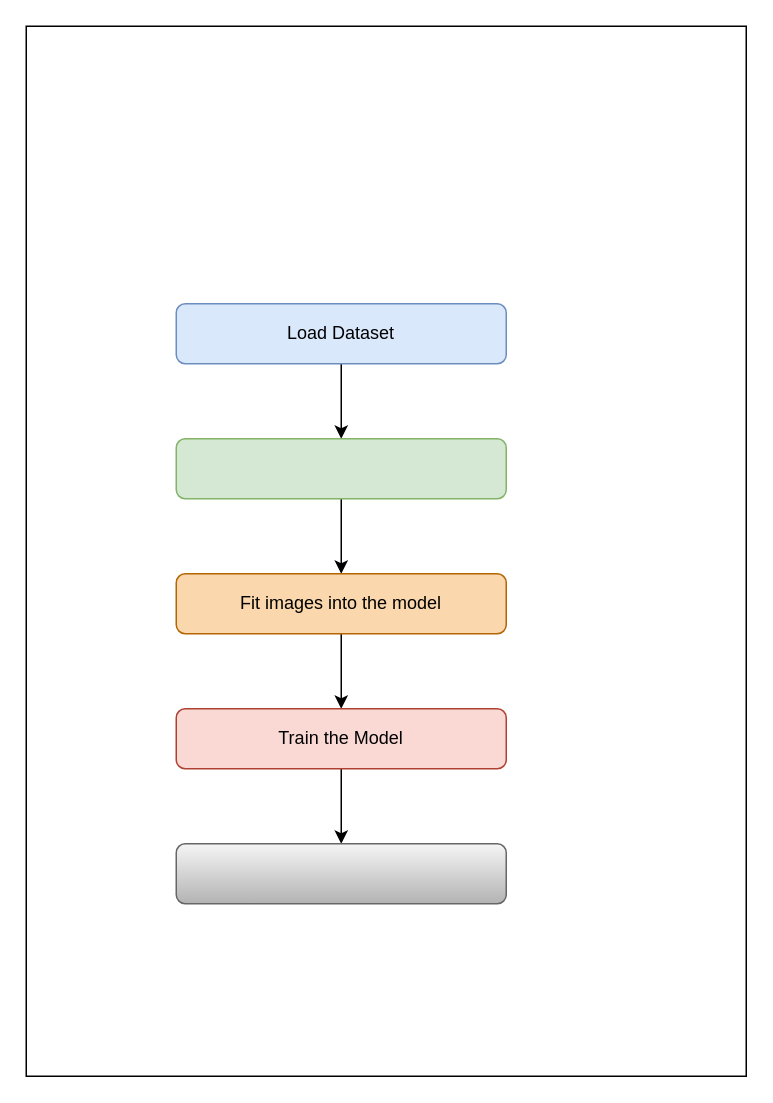
The diagram is 773 pixels wide and 1103 high, and some of its shapes have lost their labels. Here are the shapes that lost their labels. From the top down, the centre of each, then its label:
At point 340,468: "Preprocess the images".
At point 340,873: "Evaluate the Model".
